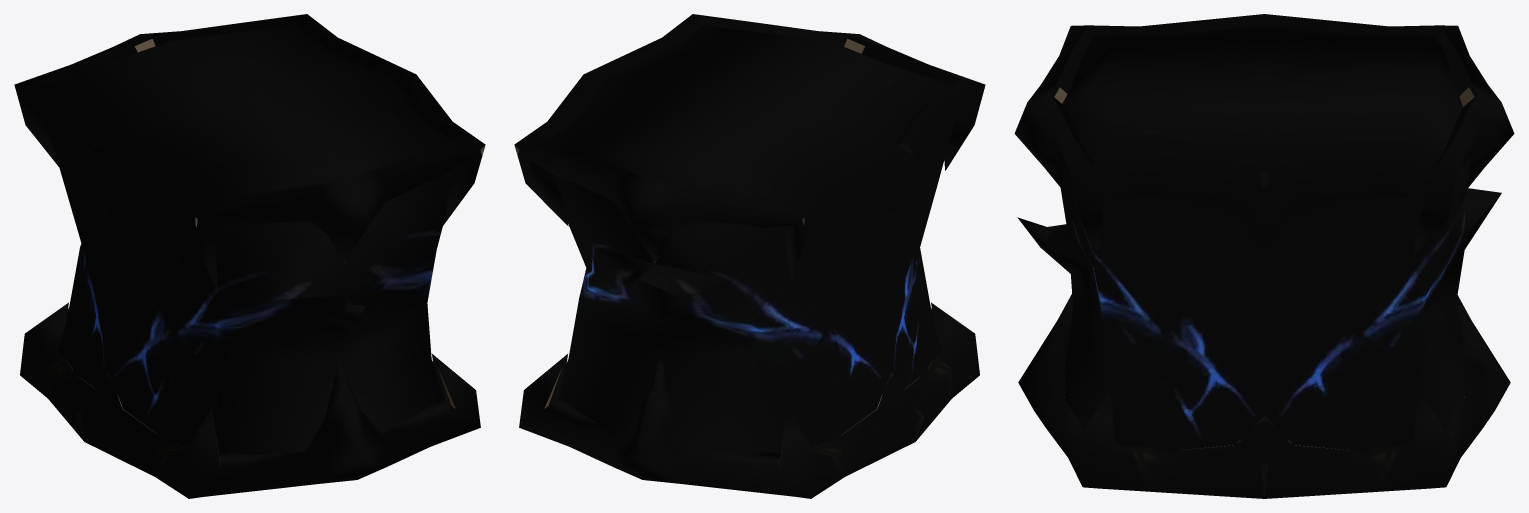
3 views of the same model, side by side, from view 1: azimuth 30°, elevation 25°; view 2: azimuth 150°, elevation 25°; view 3: azimuth 270°, elevation 25° (orthographic). The views are drawn at different scales.
Bounding box in the file's own units: 1.34 × 1.14 × 1.55.
Materials: 2 (2 with a texture image).
